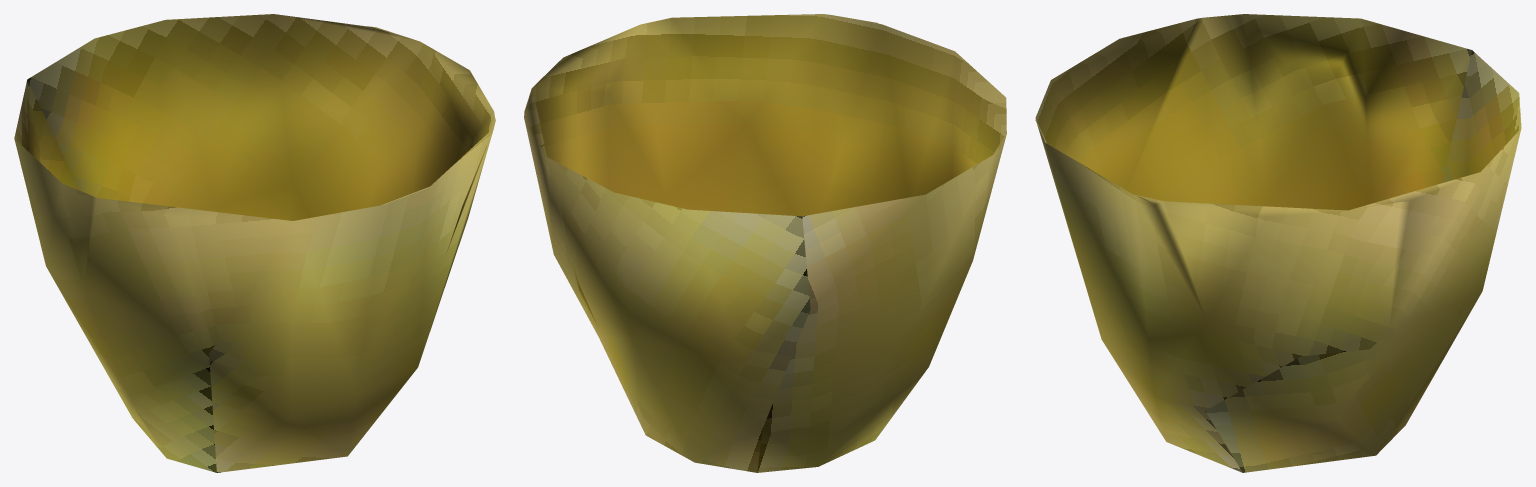
Rendered from Ecoforms_Plant_Container_B4_Har-low.glb.
The picture shows the model from 3 angles, left to right: view 1: azimuth 30°, elevation 25°; view 2: azimuth 150°, elevation 25°; view 3: azimuth 270°, elevation 25°; orthographic projection.
Parts seen in each view (by area): view 1: Ecoforms_Plant_Container_B4_Har; view 2: Ecoforms_Plant_Container_B4_Har; view 3: Ecoforms_Plant_Container_B4_Har.
Boxes of the visible parts, x1,y1,x2,y2 form: Ecoforms_Plant_Container_B4_Har: [14, 14, 495, 472]; Ecoforms_Plant_Container_B4_Har: [524, 14, 1006, 472]; Ecoforms_Plant_Container_B4_Har: [1035, 14, 1521, 472].
Size of the model in its own units: 0.1002 by 0.0715 by 0.1001.
1 material, 1 textured.
